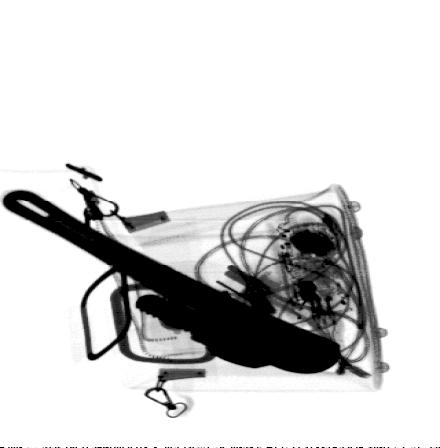Wrench: (0, 187, 344, 377)
